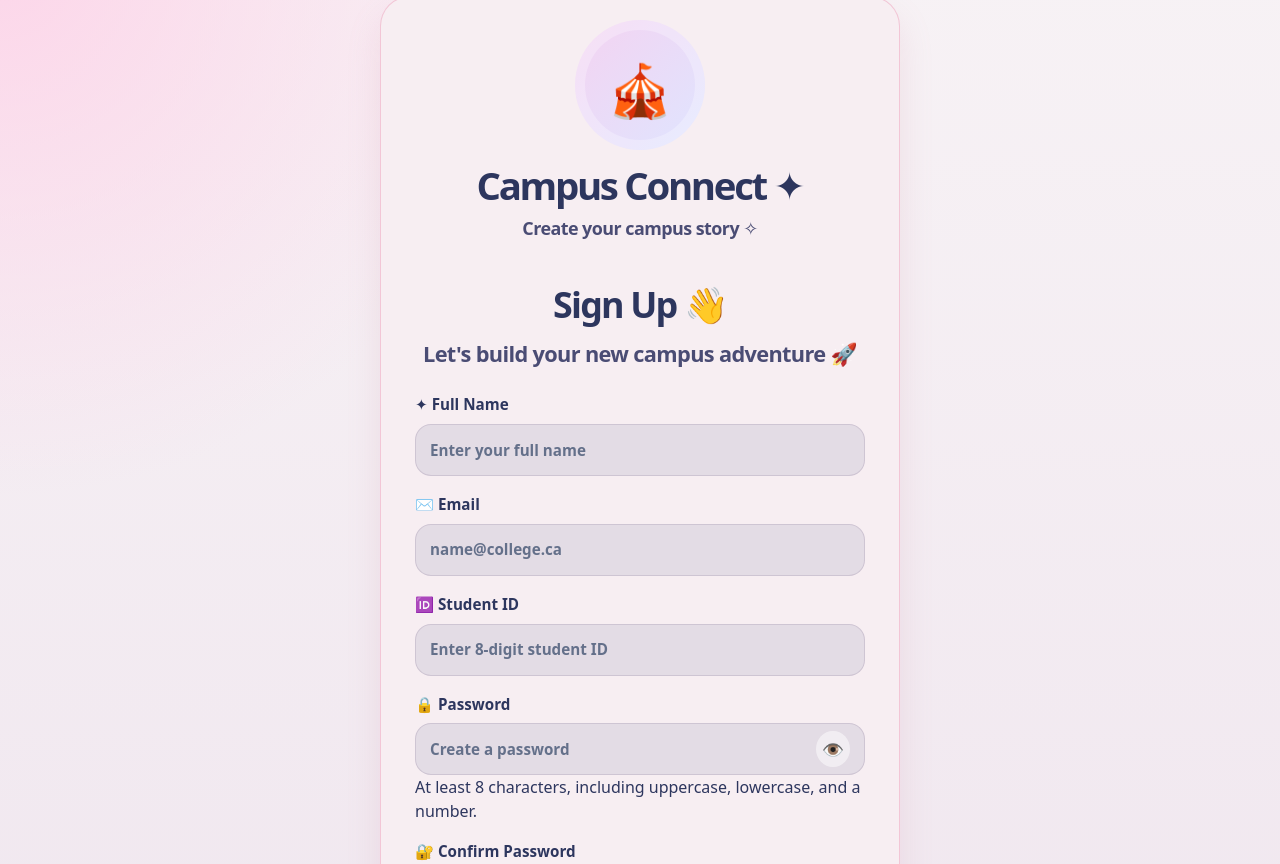
it: SignUpPage › shows an error and does not submit when passwords do not match
The width and height of the screenshot is (1280, 864).
Type "Password1" into the password field labelled "Password".
click(623, 749); type("Password1")  # box [430,738,816,761]
(page scrolled)
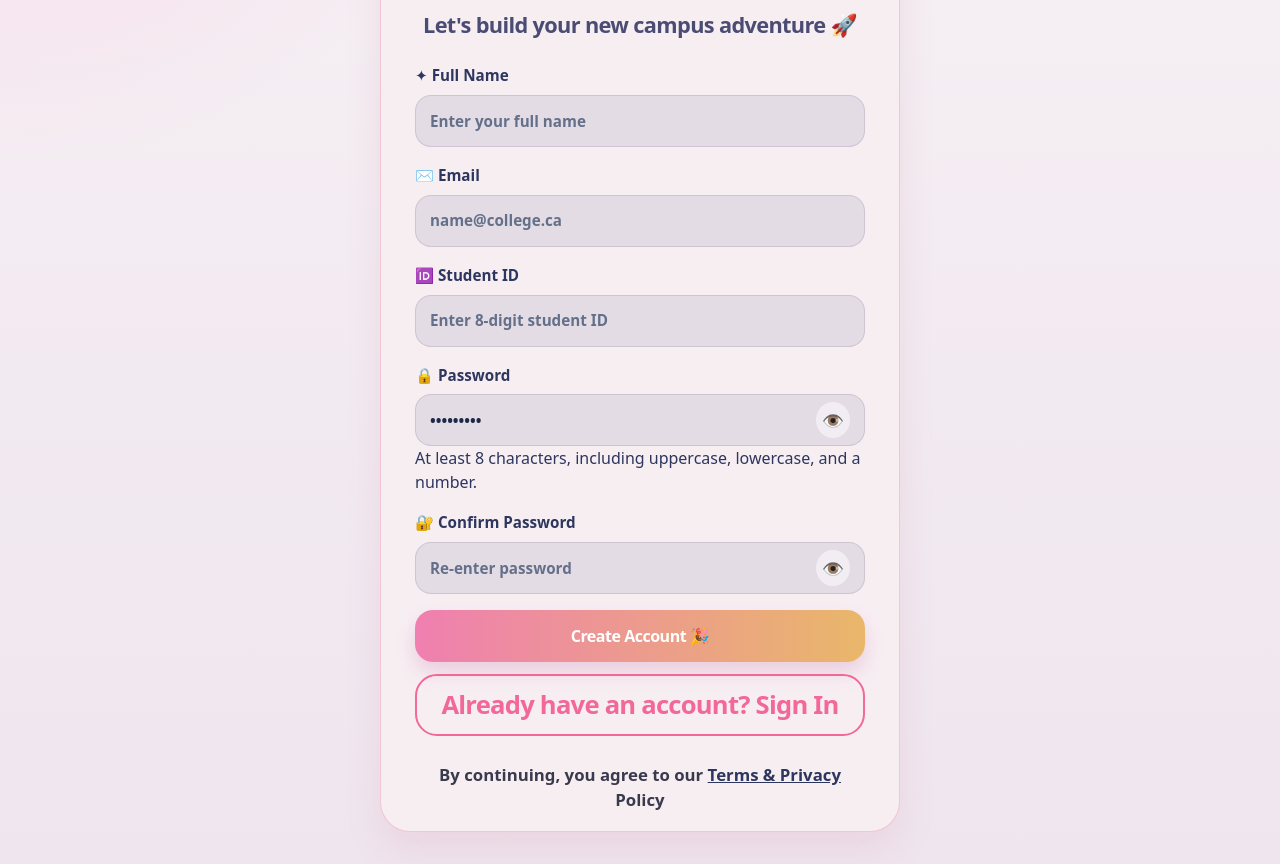
Type "Different1" into the password field labelled "Confirm Password".
click(623, 568); type("Different1")  # box [430,557,816,580]
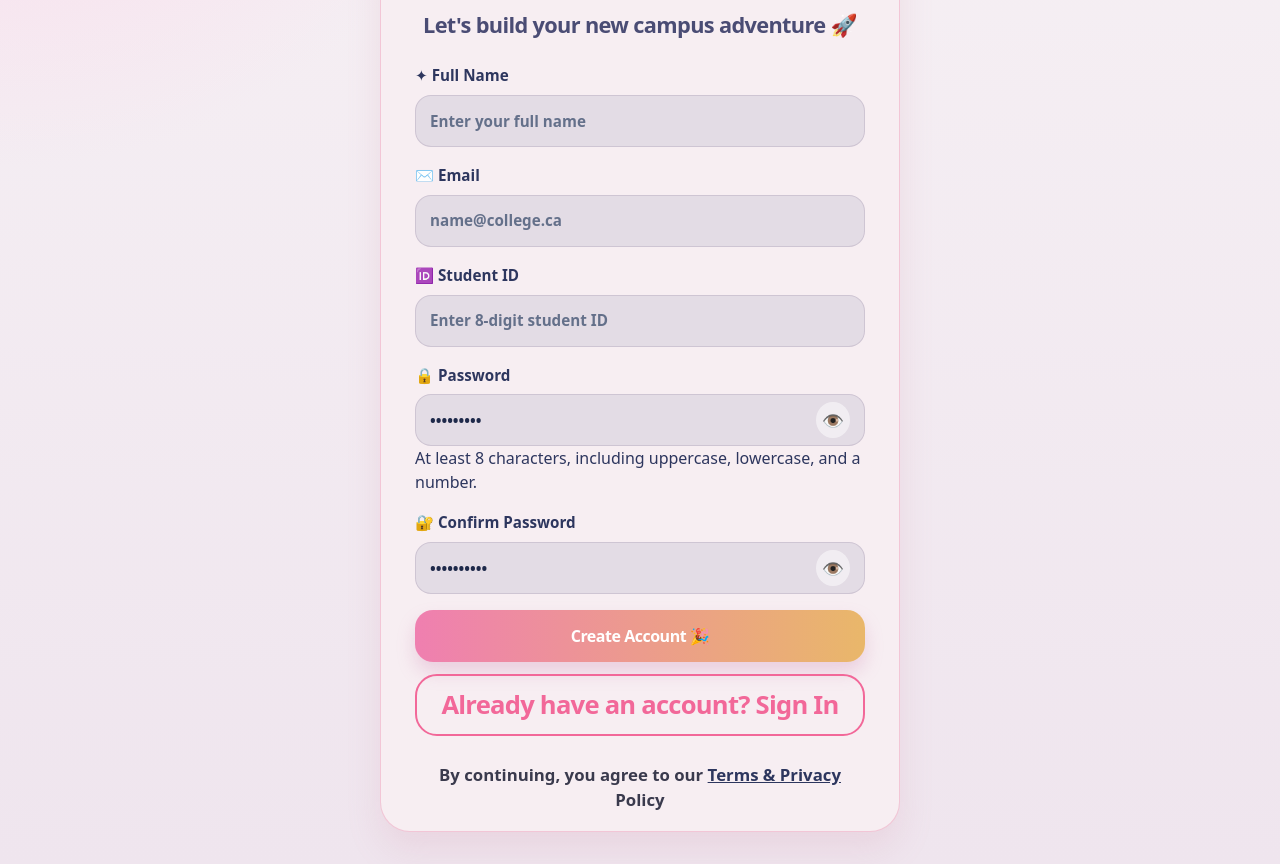
Click the button "Create Account 🎉".
click(640, 636)  # box [415,610,865,662]
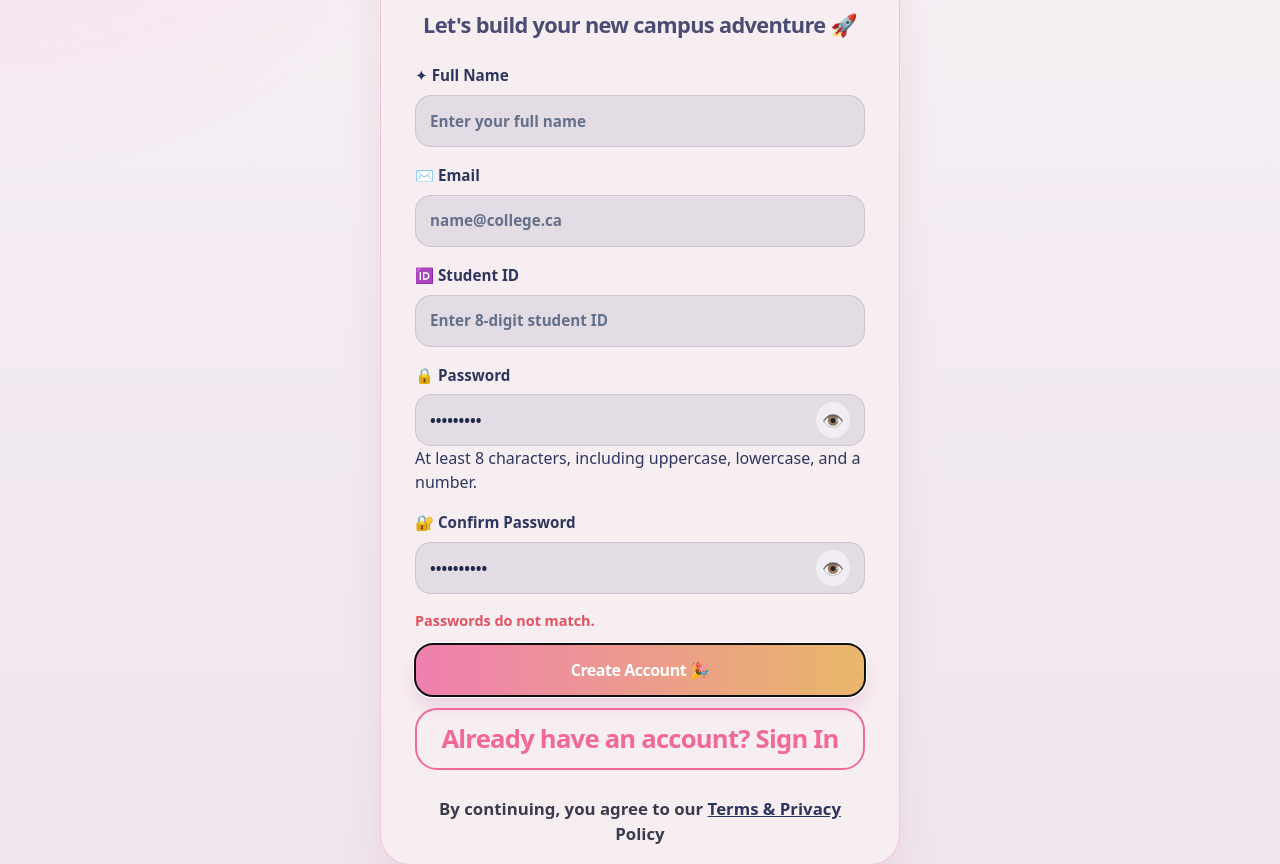
Check: the text "Passwords do not match." is shown, box [415,611,595,630]
